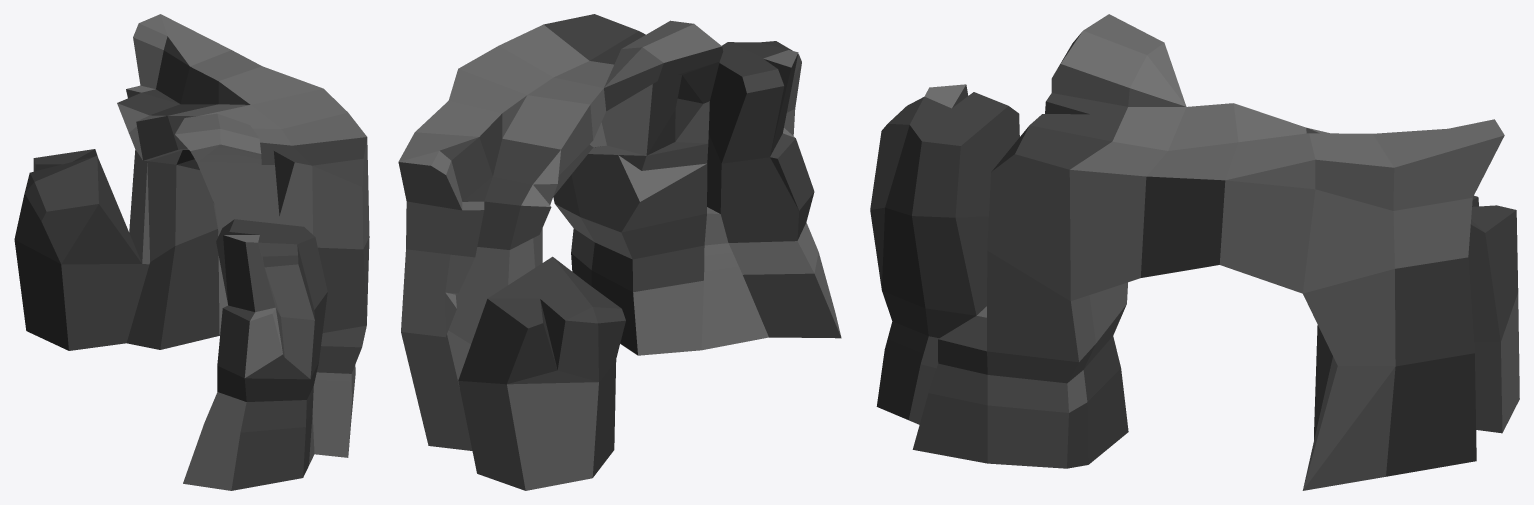
The model's file is Space-NFO.glb.
3 renders of one model, left to right at view 1: azimuth 30°, elevation 25°; view 2: azimuth 150°, elevation 25°; view 3: azimuth 270°, elevation 25°, orthographic. The views are drawn at different scales.
Parts seen in each view (by area): view 1: cliff_3; view 2: cliff_3; view 3: cliff_3.
Boxes of the visible parts, x1,y1,x2,y2 form: cliff_3: (14,14,369,490); cliff_3: (398,14,841,490); cliff_3: (870,14,1519,490).
Bounding box in the file's own units: 22.35 × 26.29 × 40.03.
Materials: 1 (1 with a texture image).
